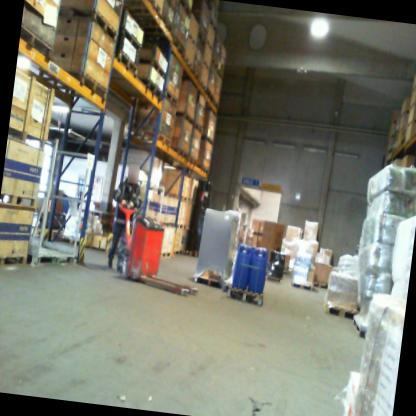pallet: (55, 4, 121, 44), (58, 66, 111, 101), (17, 23, 55, 61), (6, 124, 48, 152), (319, 298, 362, 320), (223, 284, 265, 306), (130, 127, 173, 148), (109, 48, 139, 77), (114, 26, 146, 52), (135, 56, 168, 80), (0, 191, 38, 211), (136, 78, 165, 102), (191, 273, 230, 290), (349, 316, 372, 340), (0, 251, 26, 272), (158, 189, 189, 205), (48, 231, 81, 246), (154, 88, 179, 107), (158, 14, 177, 38), (171, 35, 187, 58), (143, 0, 164, 15), (287, 280, 315, 291), (174, 111, 195, 125), (177, 0, 193, 18), (170, 146, 189, 161), (160, 220, 183, 231), (182, 54, 196, 72), (195, 162, 211, 176), (312, 280, 331, 291), (182, 247, 200, 258), (191, 67, 203, 83), (204, 88, 216, 104), (196, 31, 207, 47), (198, 135, 215, 145), (159, 249, 173, 261), (197, 79, 209, 93), (204, 38, 215, 53), (192, 122, 204, 135), (185, 157, 199, 168), (186, 32, 197, 46), (201, 59, 212, 72), (214, 68, 225, 81), (207, 18, 218, 31), (209, 57, 219, 71), (405, 116, 416, 128), (407, 98, 416, 112), (211, 98, 220, 110), (172, 248, 181, 257), (403, 137, 411, 147), (411, 81, 416, 94)
pallet_truck: (108, 195, 208, 298)
